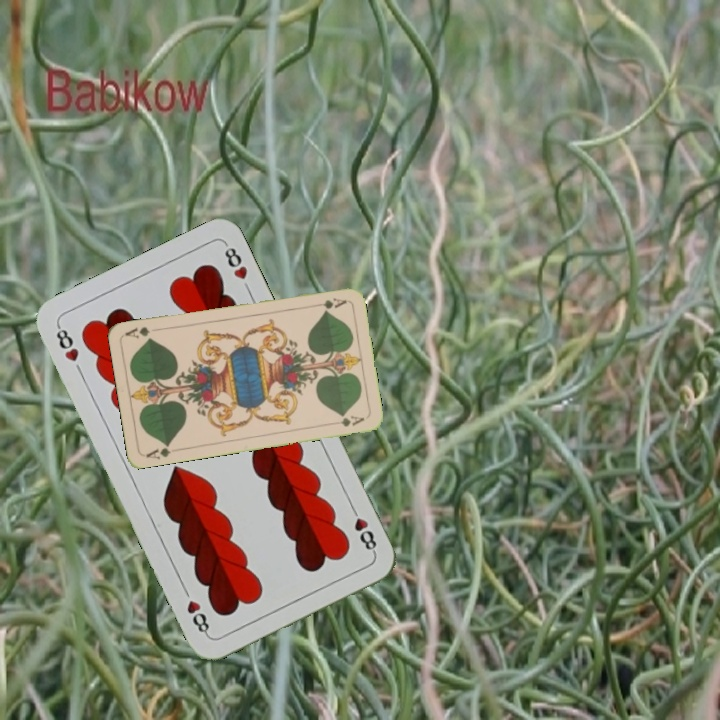GA: (142, 439, 173, 461), (309, 294, 349, 311)
H8: (346, 501, 380, 557), (52, 321, 82, 365)
